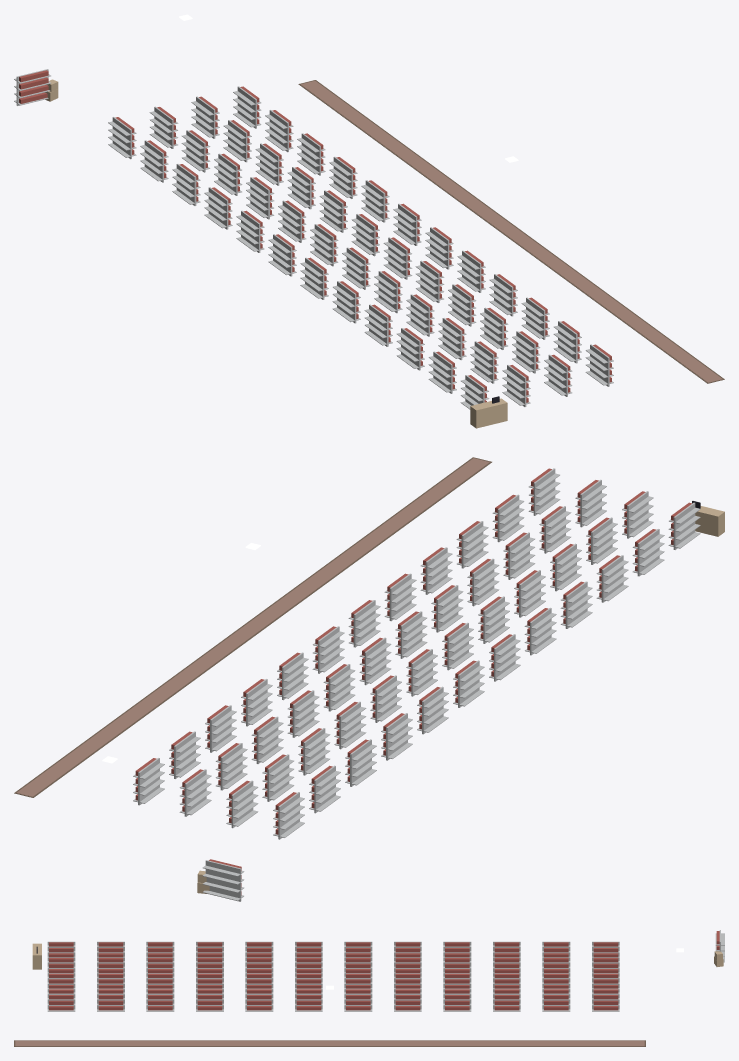
File: fine-s0.glb
The picture shows the model from 3 angles, top to bottom: view 1: azimuth 30°, elevation 25°; view 2: azimuth 150°, elevation 25°; view 3: azimuth 270°, elevation 25°; orthographic projection. The views are drawn at different scales.
Visible parts, largest first — view 1: soft-s0, shelving.000, shop-counter.000, shelf.021, shelf.001, shelf.017, shelf.020, shelf.034, shelf.018, shelf.022, shelf.038, shelf.040 (+38 smaller); view 2: soft-s0, shelving.000, shelf.008, shelf.024, shelf.046, shelf.012, shelf.026, shelf.029, shelf.044, shelf.003, shelf.010, shelf.015 (+39 smaller); view 3: soft-s0, shelf.037, shelf.039, shelf.041, shelf.043, shelf.045, shelf.047, shelf.036, shelf.038, shelf.040, shelf.042, shelf.044 (+39 smaller).
Boxes of the visible parts, x1=… form: soft-s0: x1=298, y1=80, x2=724, y2=383; shelving.000: x1=14, y1=69, x2=51, y2=105; shop-counter.000: x1=470, y1=396, x2=507, y2=428; shelf.021: x1=438, y1=318, x2=466, y2=360; shelf.001: x1=140, y1=140, x2=168, y2=182; shelf.017: x1=310, y1=224, x2=338, y2=266; shelf.020: x1=406, y1=294, x2=434, y2=336; shelf.034: x1=512, y1=331, x2=540, y2=373; shelf.018: x1=342, y1=247, x2=370, y2=289; shelf.022: x1=470, y1=341, x2=498, y2=383; shelf.038: x1=297, y1=133, x2=325, y2=175; shelf.040: x1=361, y1=180, x2=389, y2=222; soft-s0: x1=14, y1=457, x2=491, y2=797; shelving.000: x1=202, y1=859, x2=244, y2=901; shelf.008: x1=560, y1=581, x2=592, y2=628; shelf.024: x1=179, y1=769, x2=211, y2=816; shelf.046: x1=492, y1=494, x2=524, y2=542; shelf.012: x1=226, y1=780, x2=258, y2=828; shelf.026: x1=251, y1=716, x2=283, y2=763; shelf.029: x1=359, y1=637, x2=391, y2=685; shelf.044: x1=420, y1=547, x2=452, y2=594; shelf.003: x1=381, y1=713, x2=412, y2=760; shelf.010: x1=632, y1=529, x2=664, y2=576; shelf.015: x1=334, y1=701, x2=366, y2=749; soft-s0: x1=14, y1=1040, x2=645, y2=1046; shelf.037: x1=542, y1=988, x2=570, y2=1011; shelf.039: x1=443, y1=988, x2=471, y2=1011; shelf.041: x1=344, y1=988, x2=372, y2=1011; shelf.043: x1=245, y1=988, x2=273, y2=1011; shelf.045: x1=146, y1=988, x2=174, y2=1011; shelf.047: x1=47, y1=988, x2=75, y2=1011; shelf.036: x1=592, y1=988, x2=619, y2=1011; shelf.038: x1=493, y1=988, x2=520, y2=1011; shelf.040: x1=394, y1=988, x2=421, y2=1011; shelf.042: x1=295, y1=988, x2=322, y2=1011; shelf.044: x1=196, y1=988, x2=223, y2=1011.
Bounding box in the file's own units: 14.44 × 4.01 × 45.97.
